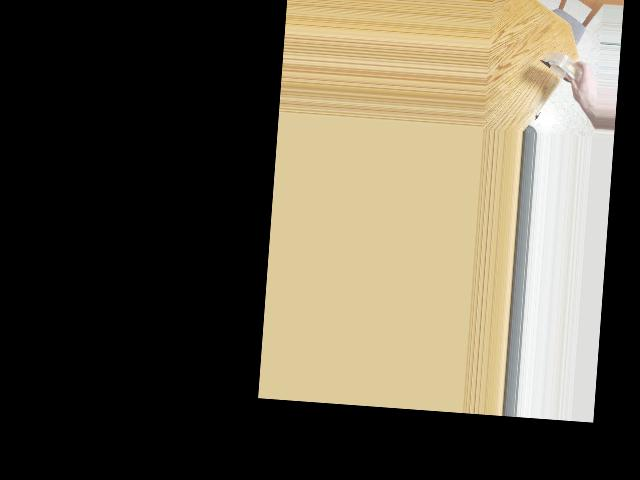cheese: (547, 40, 594, 100)
